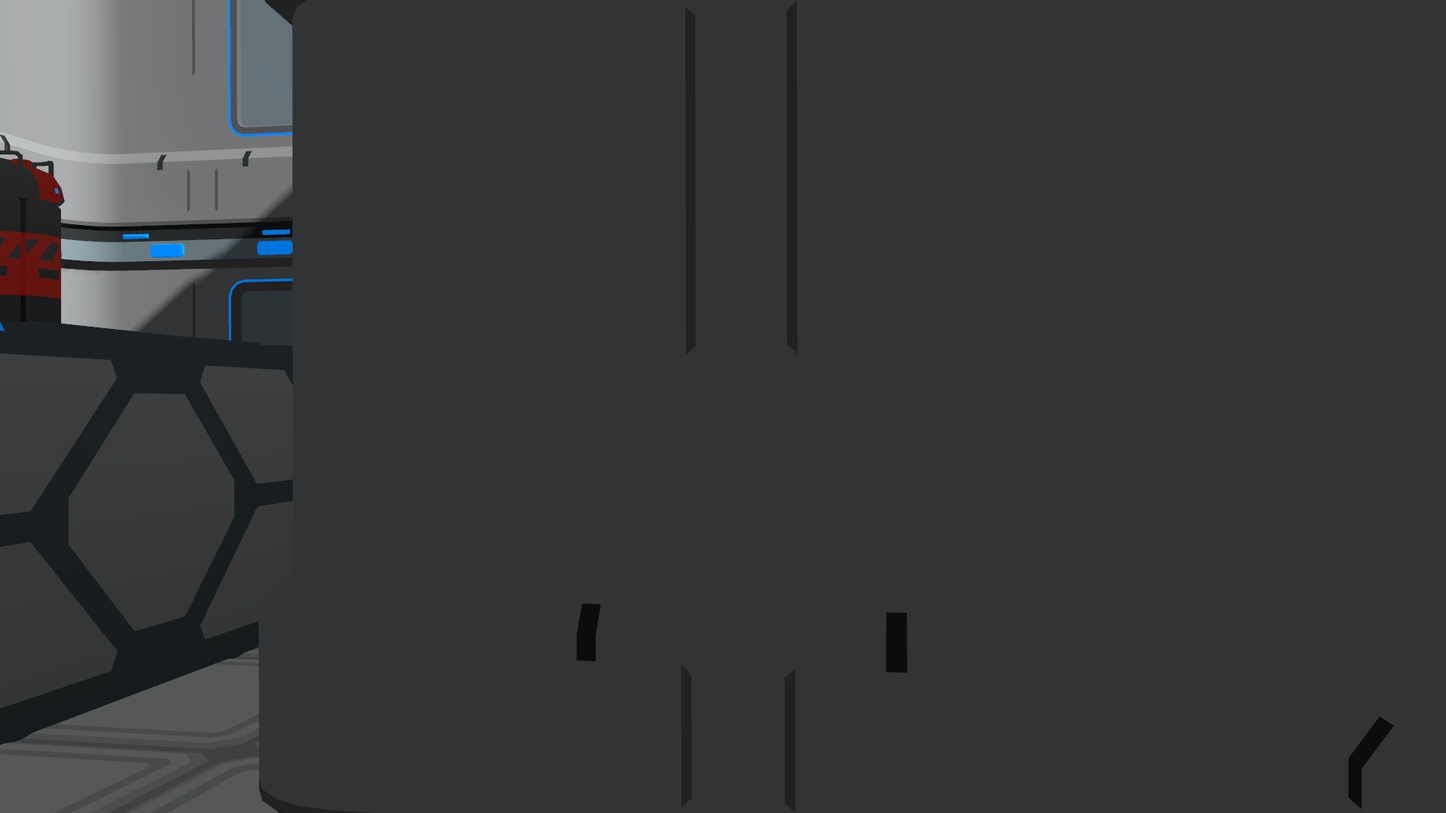red_barrel: (0, 147, 67, 333)
